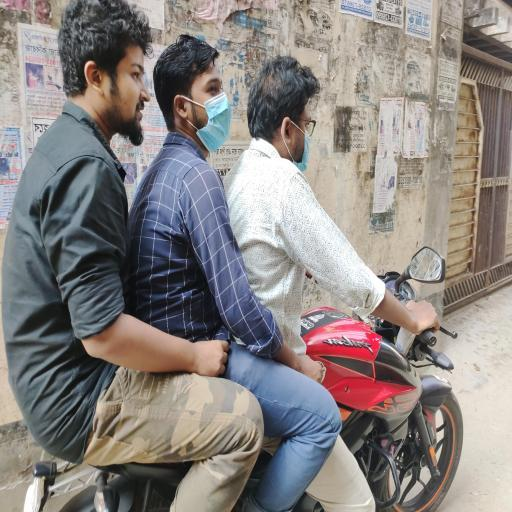no helmet: (227, 48, 346, 232)
triple riding: (0, 12, 460, 512)
